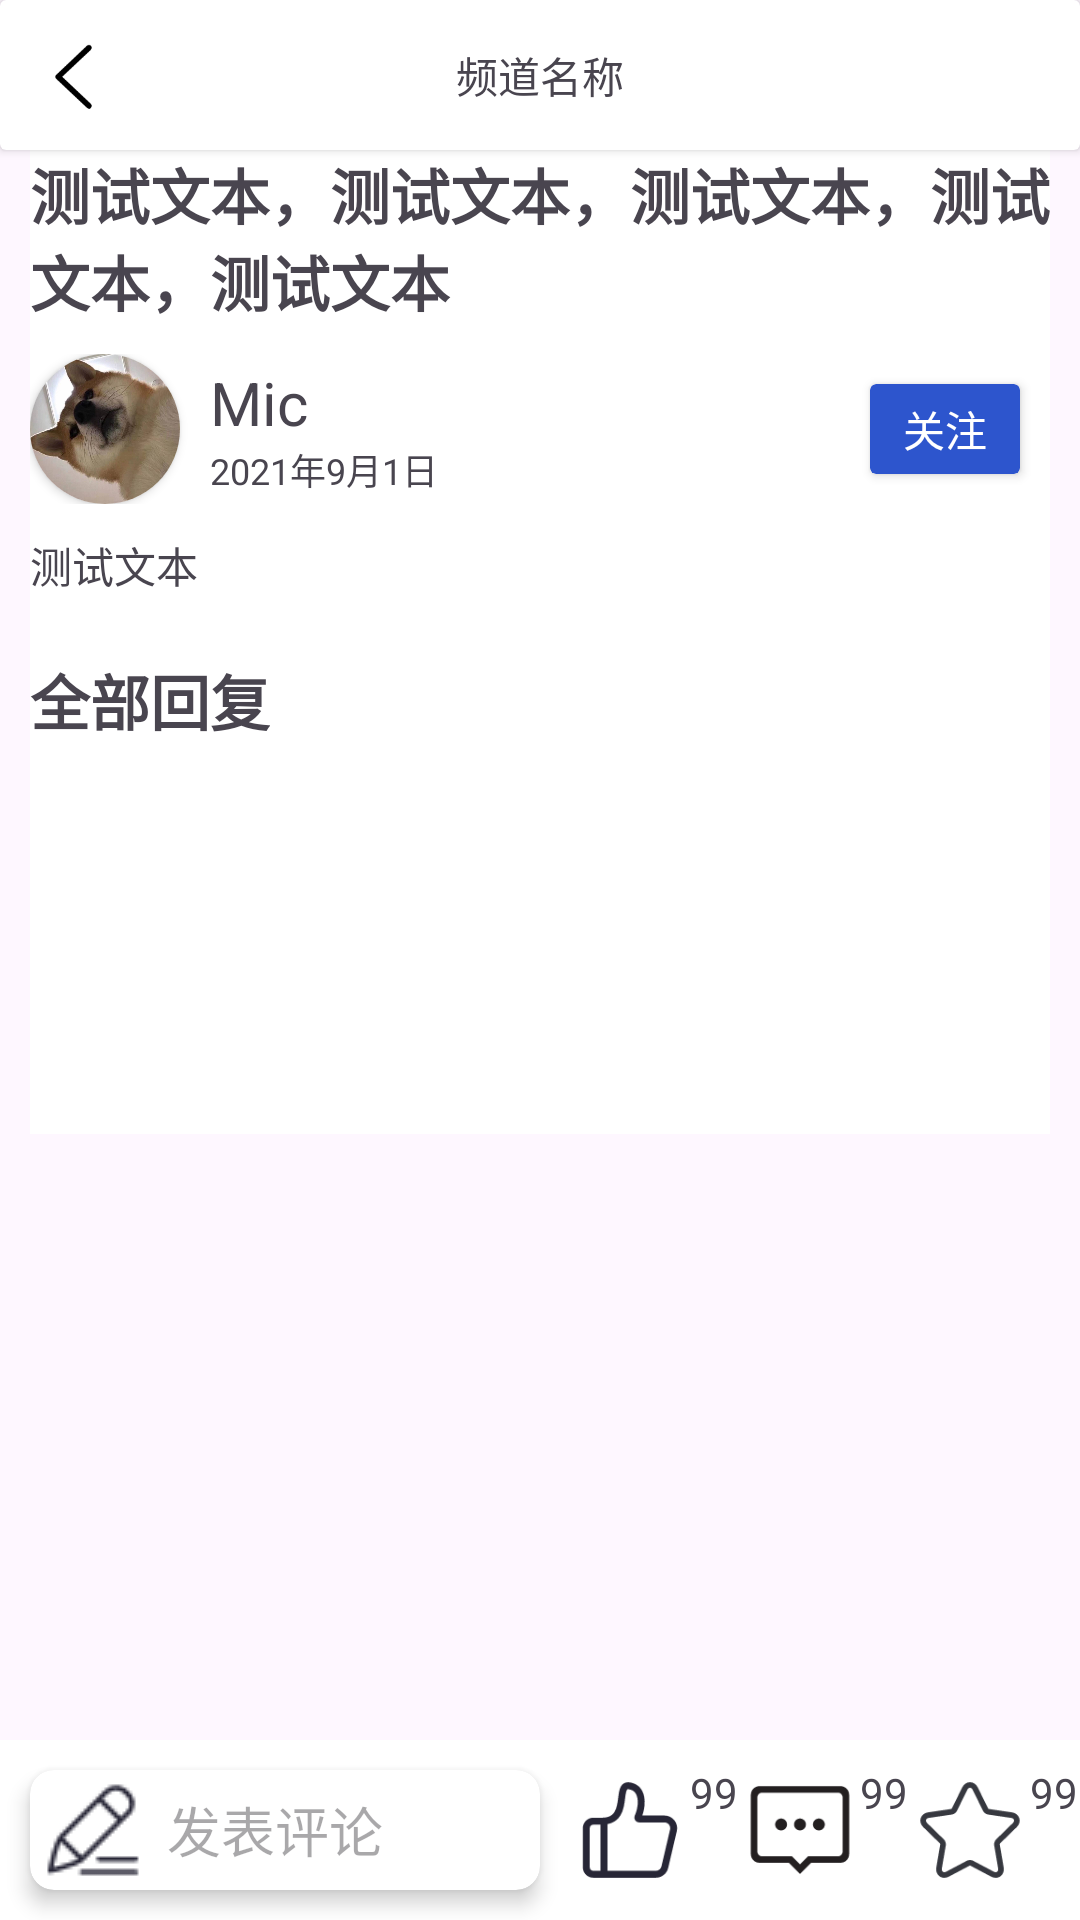

Point at icon controls on the screen. Image size 1080*1920, points as (x,y).
back: (73,77)
pinglun: (800,1830)
user: (105,429)
